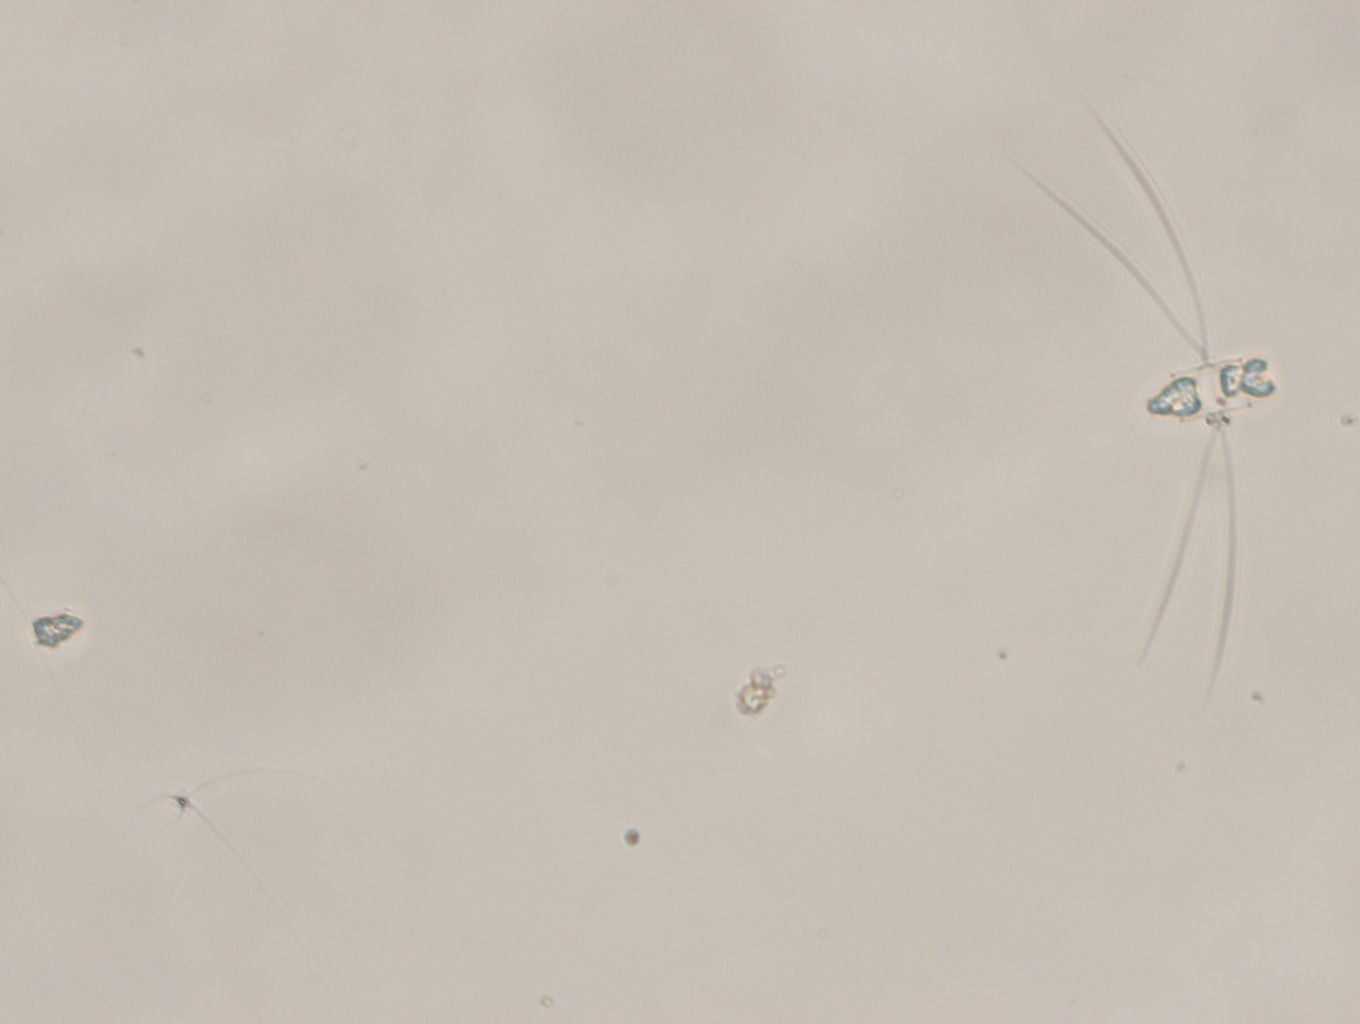chaetoceros: (999, 91, 1283, 698)
